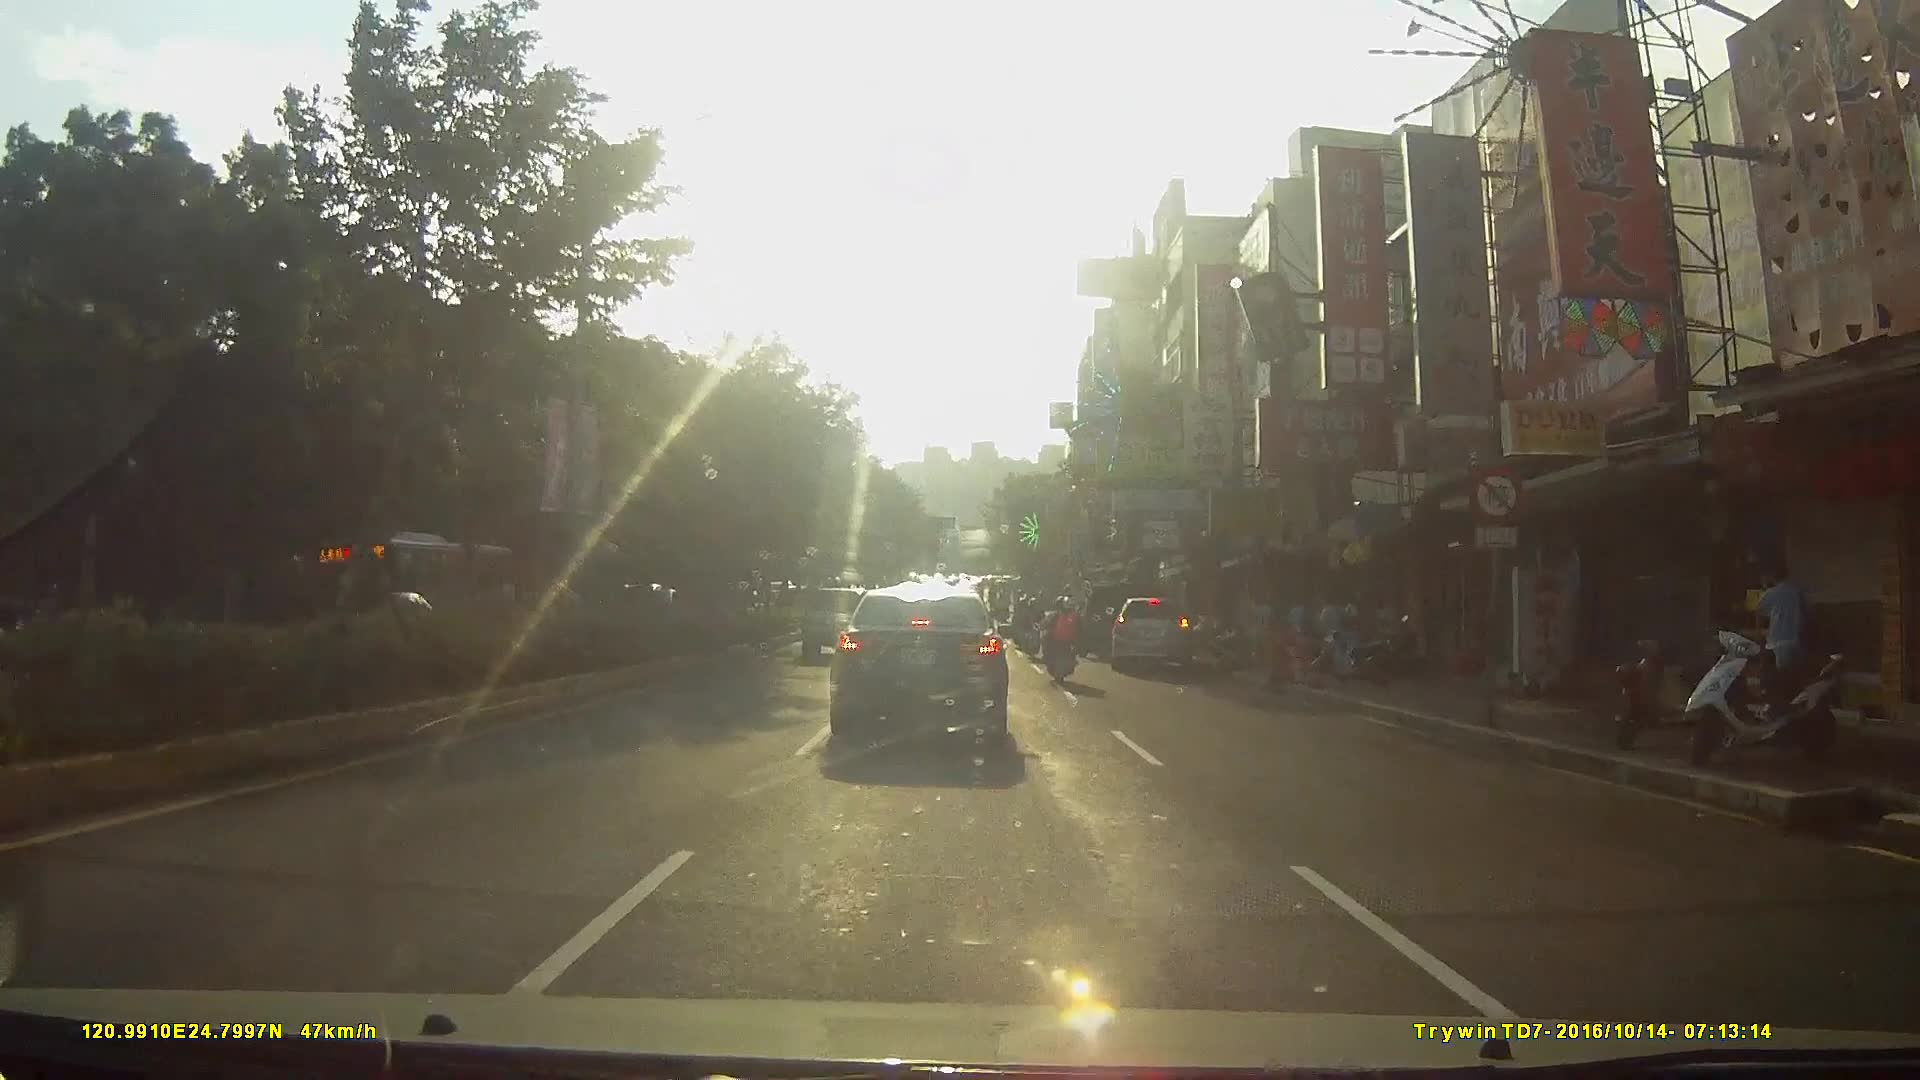pedestrian: (1750, 570, 1805, 728)
rider: (1047, 603, 1092, 700), (1017, 599, 1043, 663)
vehicle: (827, 588, 1031, 762), (298, 537, 517, 657), (1114, 596, 1203, 679)
